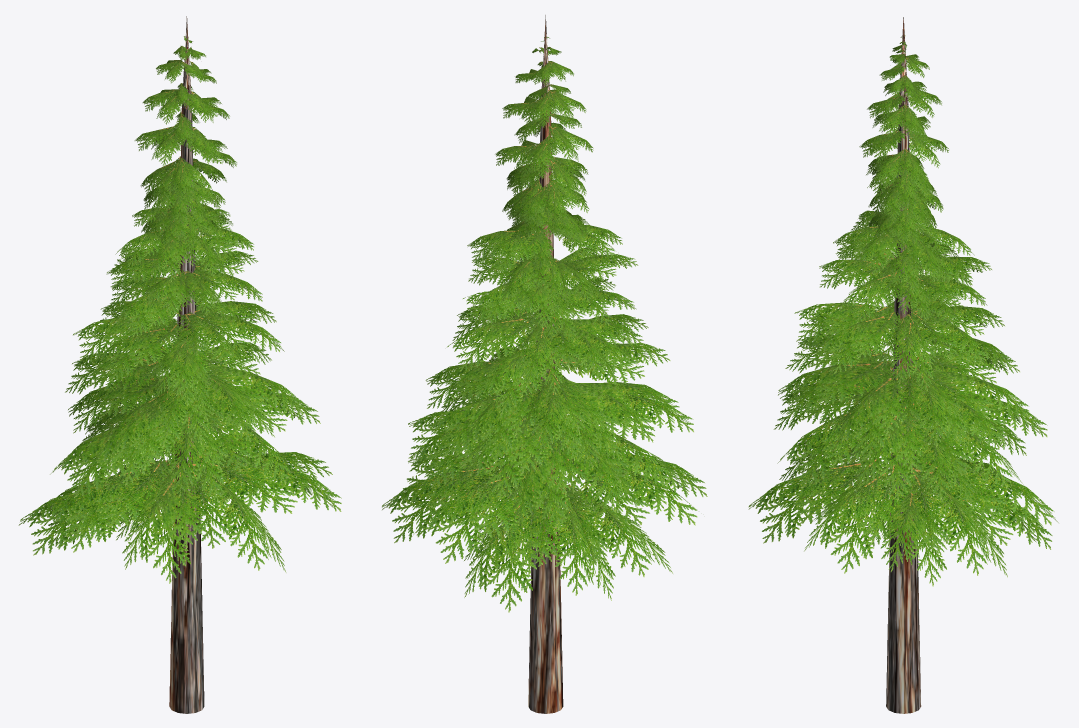
File: tree_conifer_01.glb
3 views of the same model, side by side, from view 1: azimuth 30°, elevation 25°; view 2: azimuth 150°, elevation 25°; view 3: azimuth 270°, elevation 25° (orthographic).
Parts seen in each view (by area): view 1: env; view 2: env; view 3: env.
Boxes of the visible parts, <box> form: env: <box>18,16,341,713</box>; env: <box>382,15,707,713</box>; env: <box>748,17,1058,713</box>.
Size of the model in its own units: 2.01 by 4.5 by 1.89.
1 material, 1 textured.
